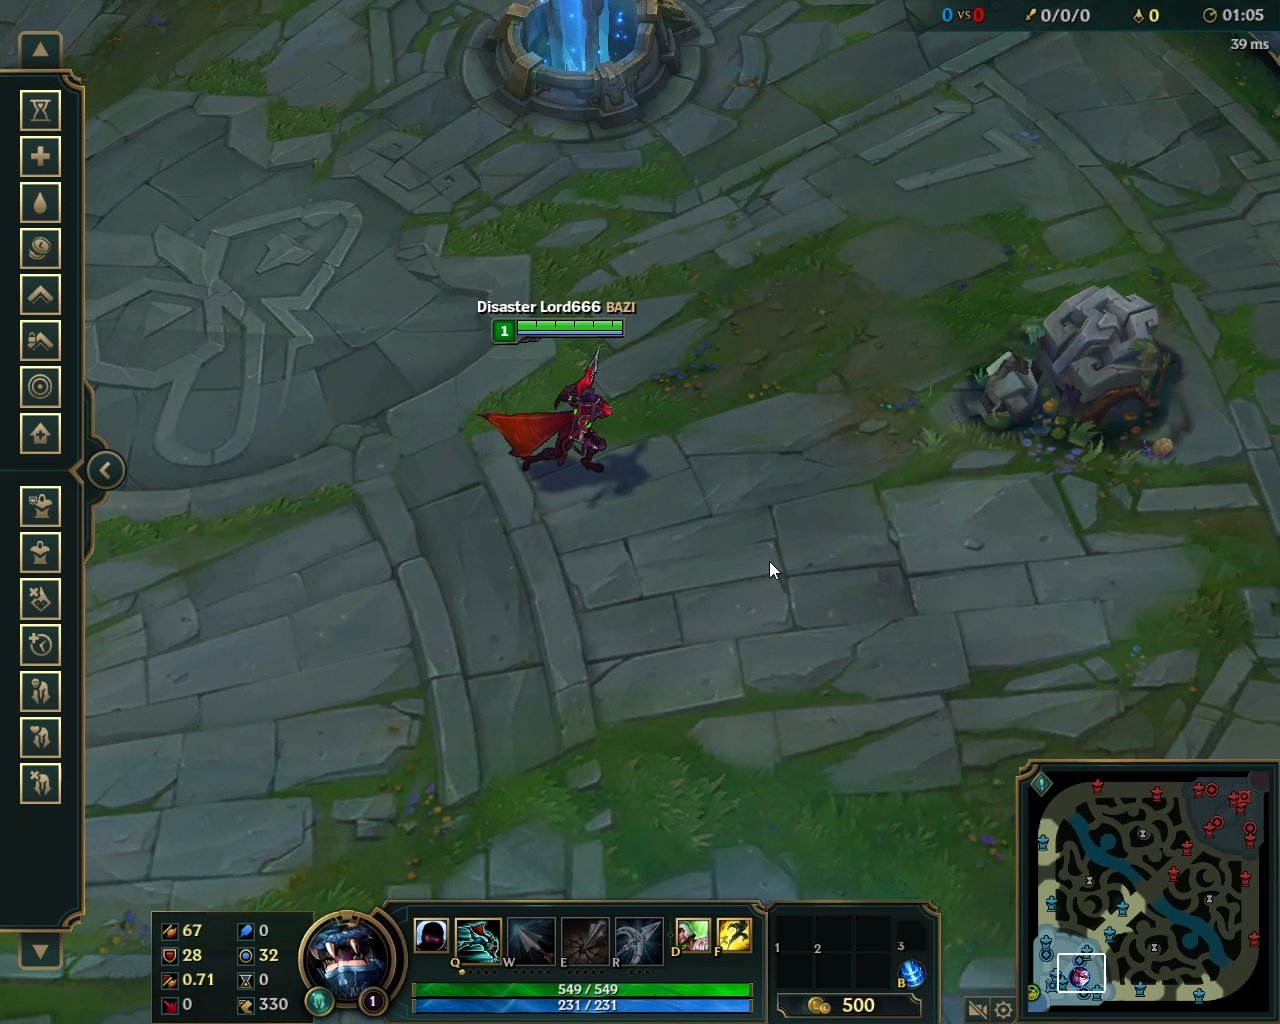Vayne: (475, 344, 621, 479)
